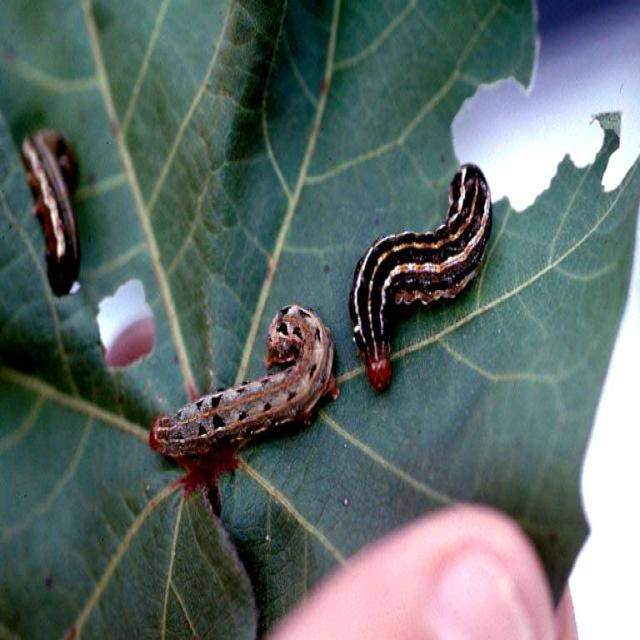Armyworm: (151, 253, 348, 521), (346, 154, 497, 412), (15, 103, 105, 314)
Armyworm_damage: (99, 267, 169, 405)
